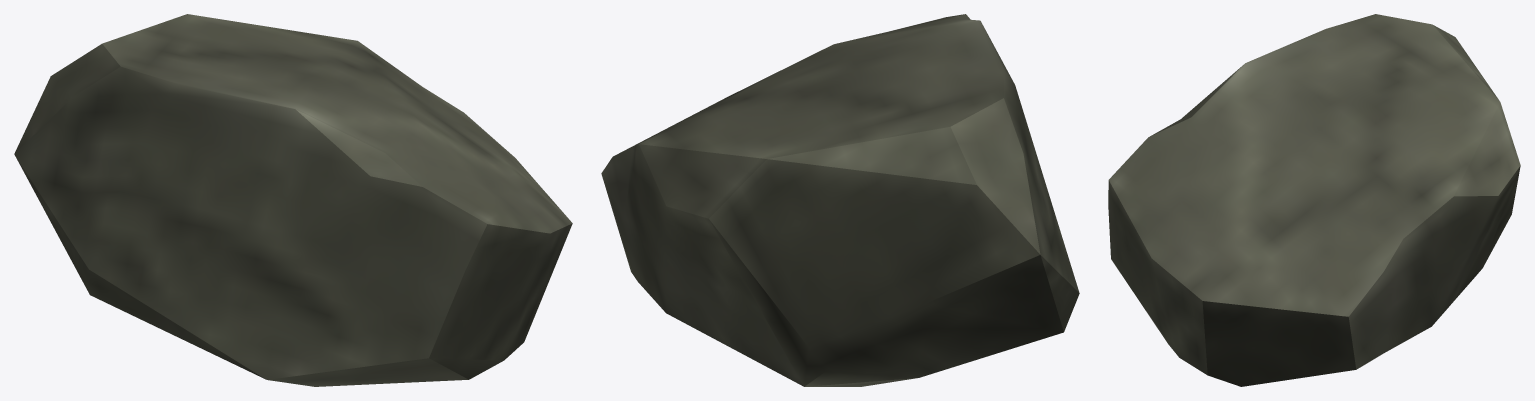
Rendered from Rock_05.fbx.
3 views of the same model, side by side, from view 1: azimuth 30°, elevation 25°; view 2: azimuth 150°, elevation 25°; view 3: azimuth 270°, elevation 25° (orthographic). The views are drawn at different scales.
Visible parts, largest first — view 1: Rock_05; view 2: Rock_05; view 3: Rock_05.
Part boxes in pixels (<box>): Rock_05: <box>14,14,572,386</box>; Rock_05: <box>601,14,1079,386</box>; Rock_05: <box>1108,14,1520,386</box>.
Size of the model in its own units: 217 by 140 by 203.
Materials: 1 (1 with a texture image).
